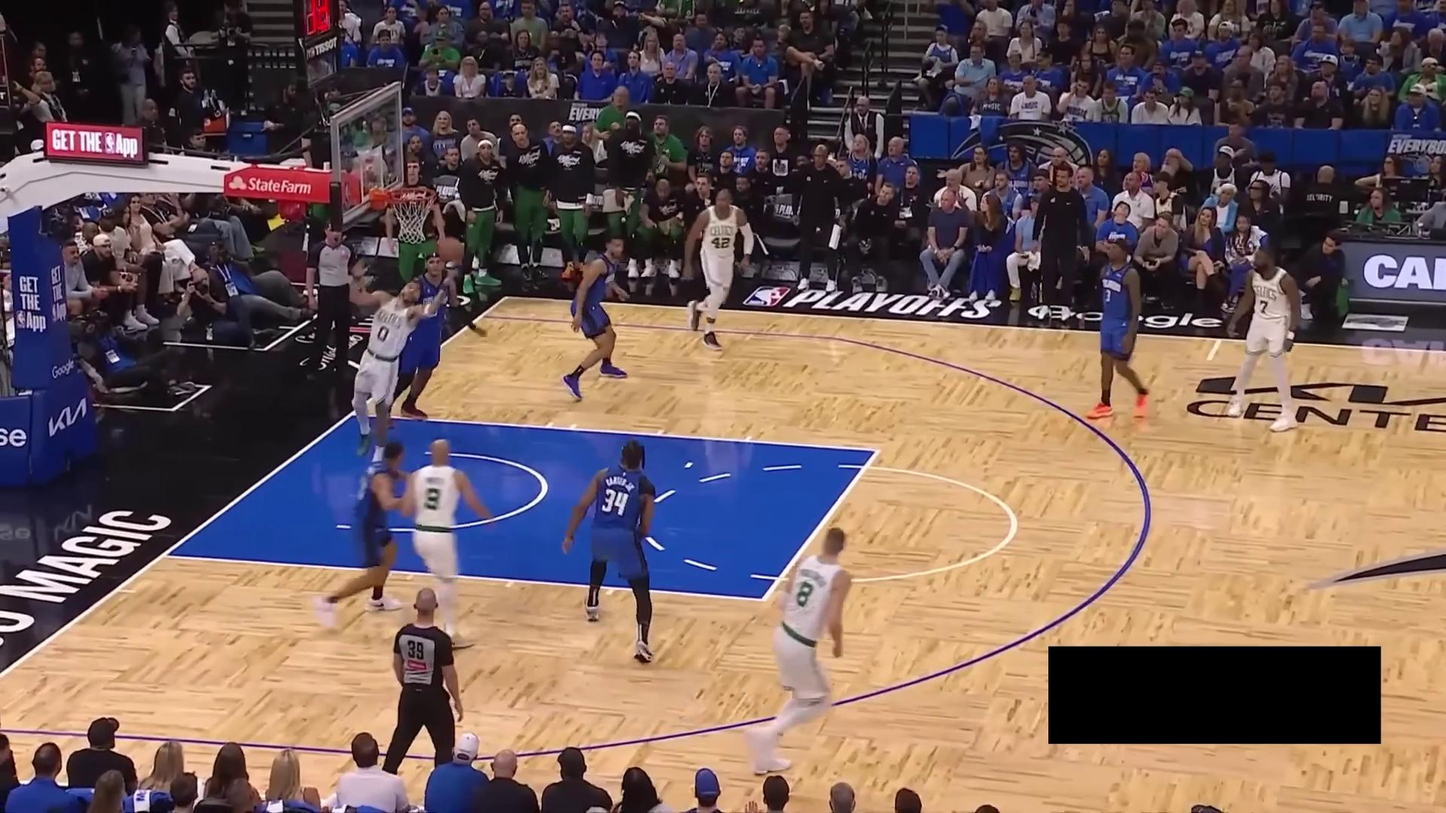ball: (438, 236, 465, 262)
number: (793, 578, 817, 610), (602, 487, 628, 516), (422, 486, 439, 510), (711, 236, 731, 249), (377, 325, 390, 343), (1260, 300, 1269, 314), (1105, 289, 1112, 303)
player: (748, 522, 856, 780), (557, 438, 663, 658), (311, 438, 422, 633), (402, 434, 498, 645), (380, 252, 491, 428), (1224, 237, 1310, 433), (1085, 232, 1156, 423), (677, 188, 758, 351), (560, 231, 632, 401)
player-in-possession: (342, 258, 458, 463)
referee: (382, 585, 466, 784), (299, 216, 366, 373)
rim: (387, 183, 440, 206)
